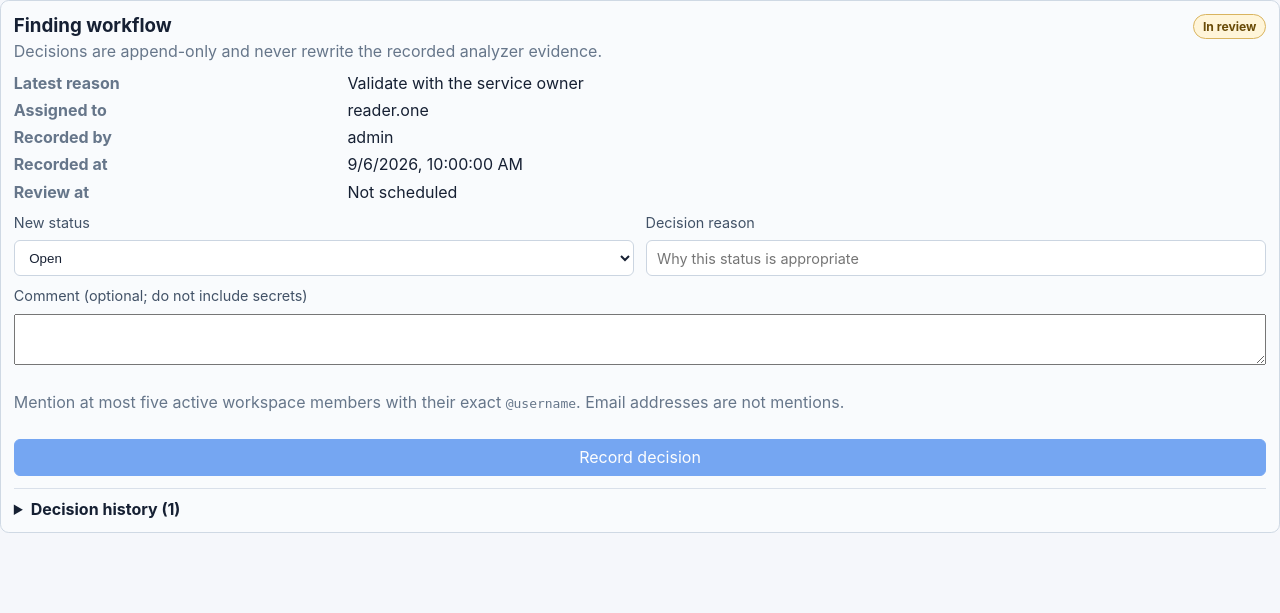
FindingLifecyclePanel › shows a recoverable conflict without losing the form
Type "Resolve after review" into the field labelled "Decision reason".
click(956, 258); type("Resolve after review")  # box [646,240,1266,276]
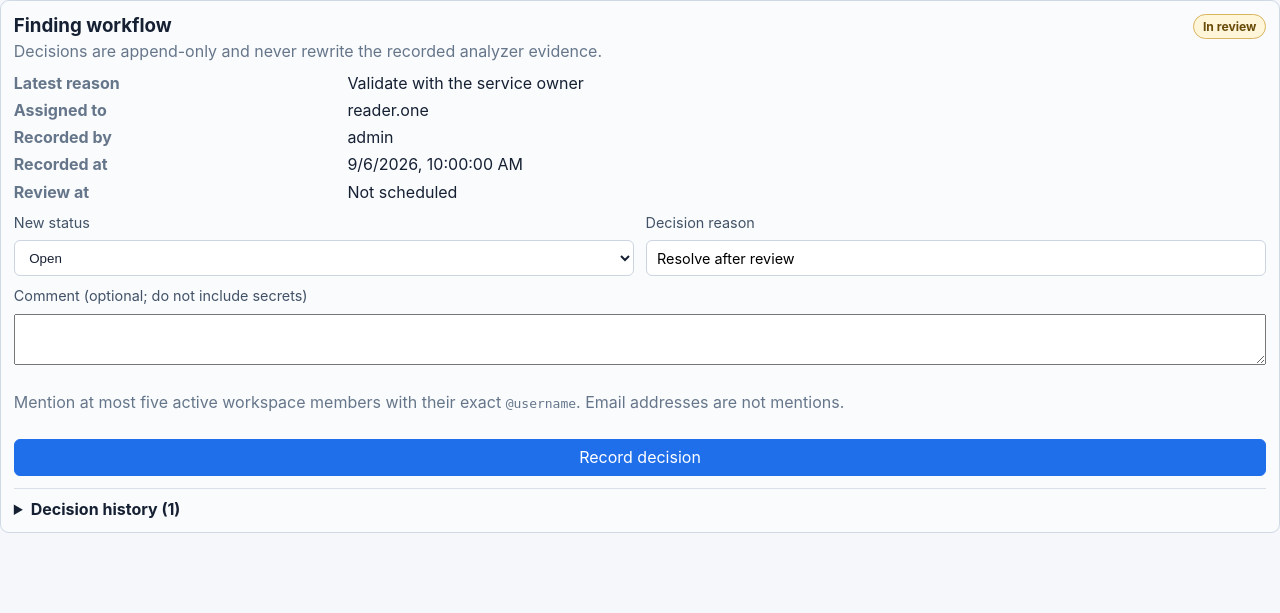
Select "Resolved" in the dropdown labelled "New status" at (324, 258), box [14,240,634,276]
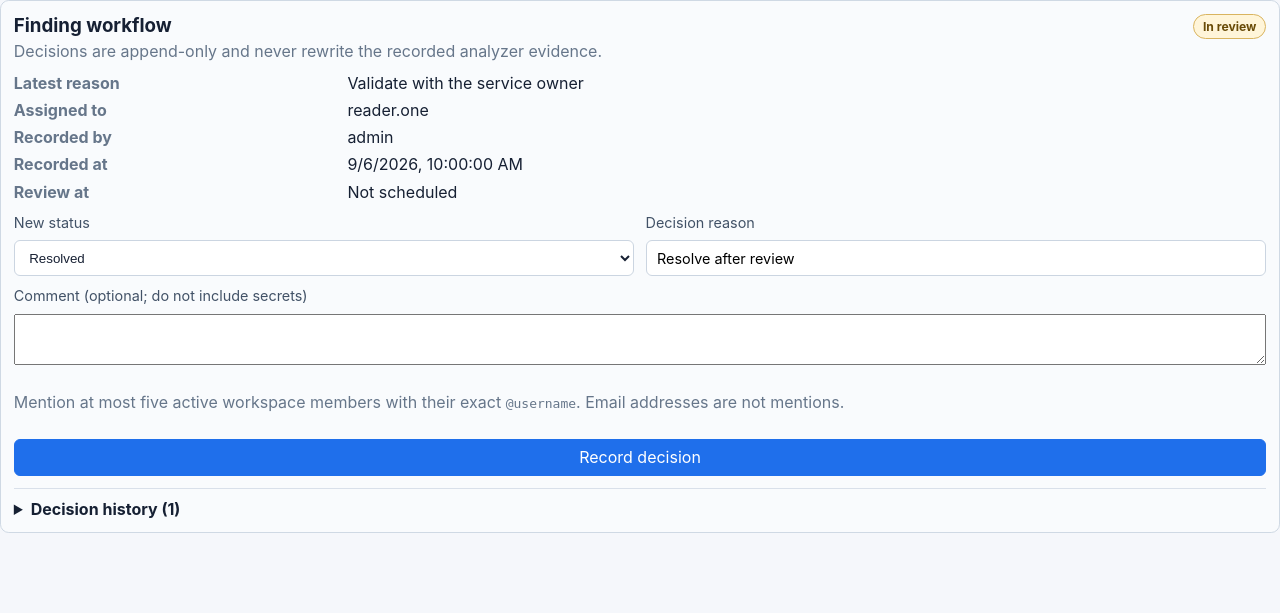
Click the button "Record decision".
click(640, 458)  # box [14,439,1266,476]
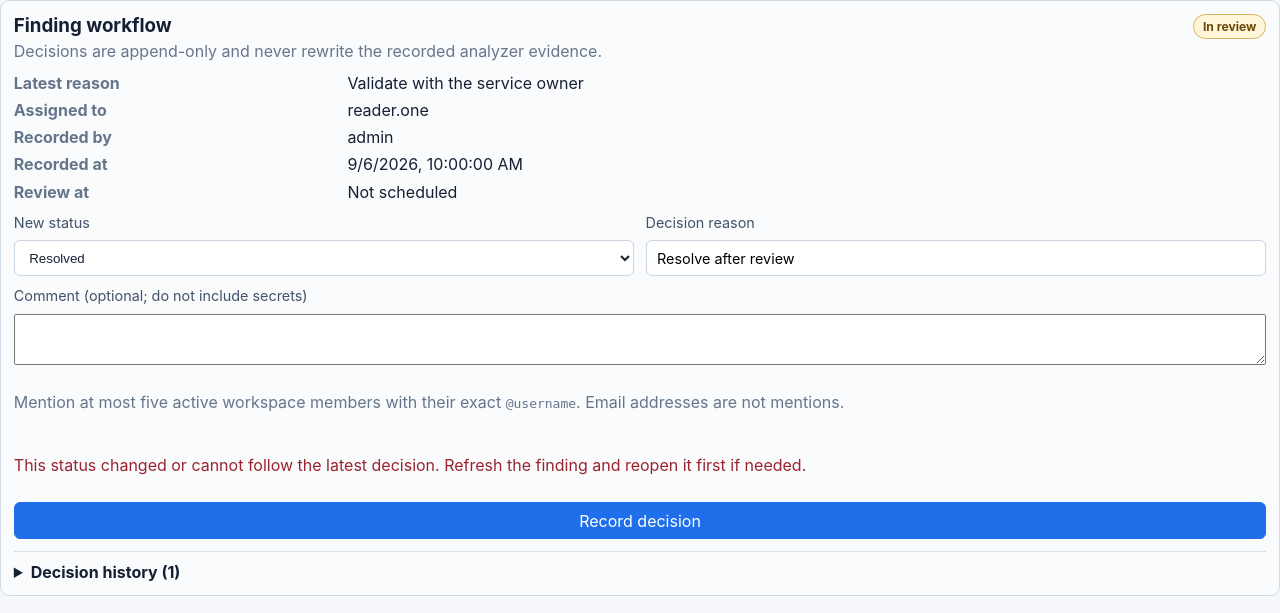
Result: the message shows "Refresh the finding and reopen it first" at [14,455,806,475]
